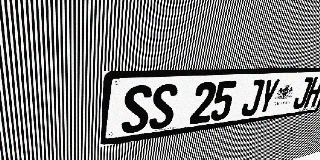2: (189, 81, 218, 124)
5: (210, 81, 237, 121)
H: (303, 76, 320, 108)
J: (240, 79, 266, 117), (291, 77, 314, 110)
S: (121, 85, 153, 134), (148, 83, 179, 130)
Y: (256, 78, 281, 115)
